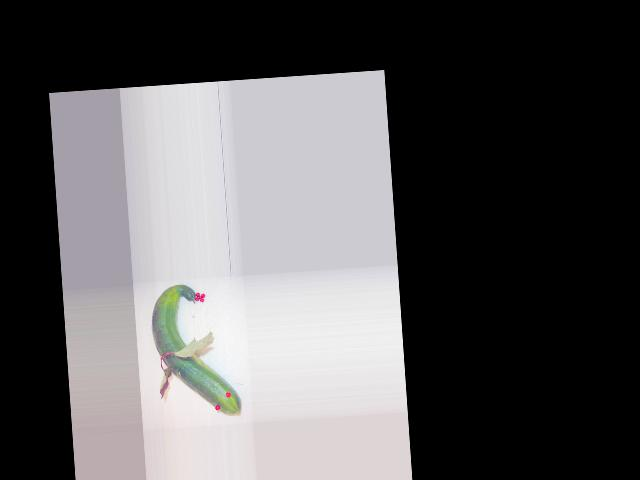cucumber: (149, 280, 242, 419)
